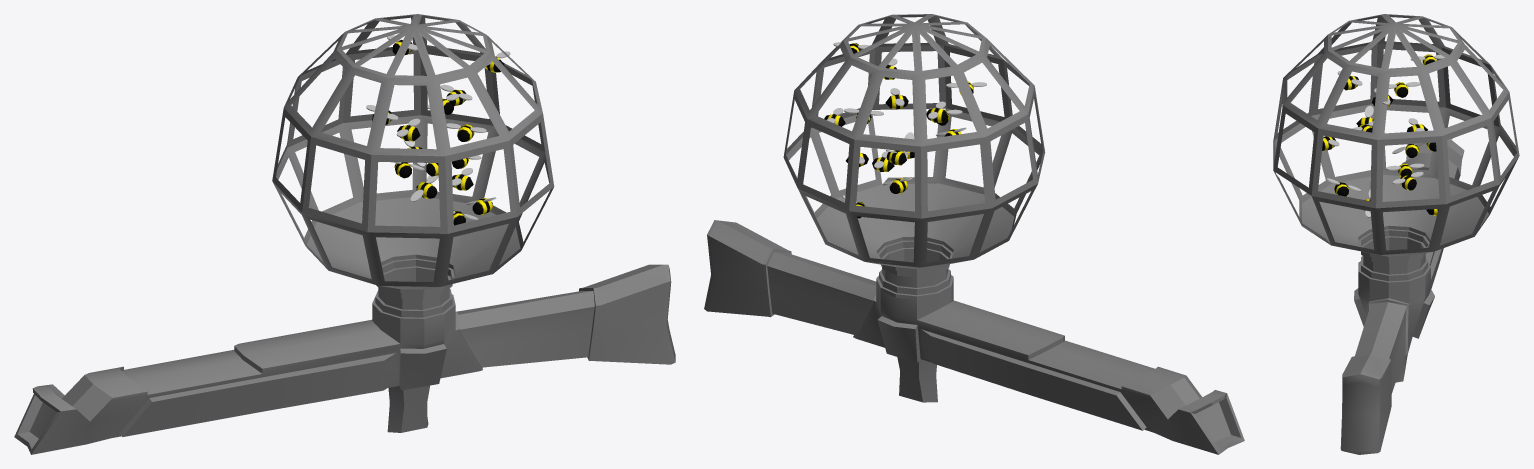
Rendered from bee gun bzz.fbx.
3 renders of one model, left to right at view 1: azimuth 30°, elevation 25°; view 2: azimuth 150°, elevation 25°; view 3: azimuth 270°, elevation 25°, orthographic. The views are drawn at different scales.
Parts seen in each view (by area): view 1: Sphere001, Sphere003; view 2: Sphere001, Sphere003; view 3: Sphere001, Sphere003.
Part boxes in pixels (x1,y1,x2,y2): Sphere001: (14,14,675,454); Sphere003: (366,35,510,225); Sphere001: (704,14,1244,454); Sphere003: (824,42,986,218); Sphere001: (1273,14,1519,454); Sphere003: (1322,54,1452,217).
Size of the model in its own units: 48.73 by 30.67 by 19.4.
